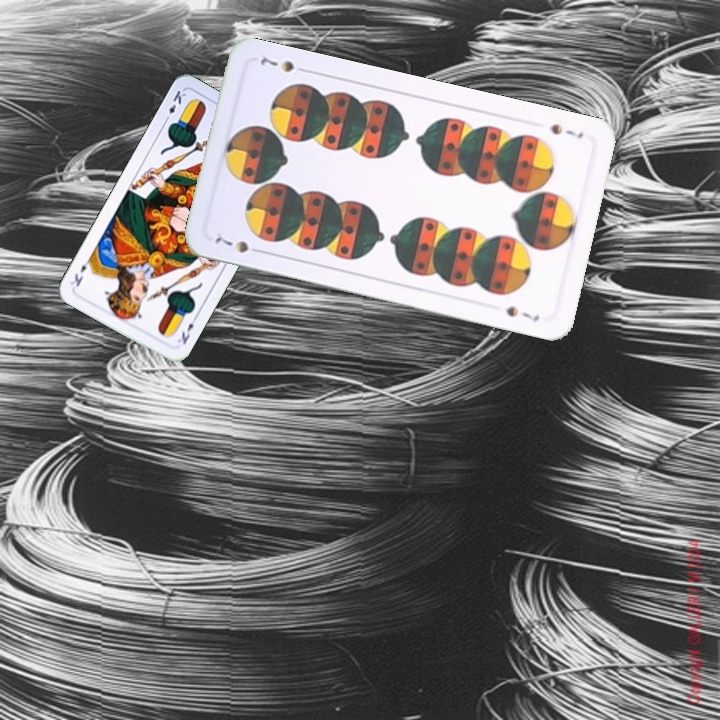EK: (160, 86, 189, 125), (174, 312, 200, 347)
S7: (211, 233, 266, 256), (545, 120, 586, 141)
